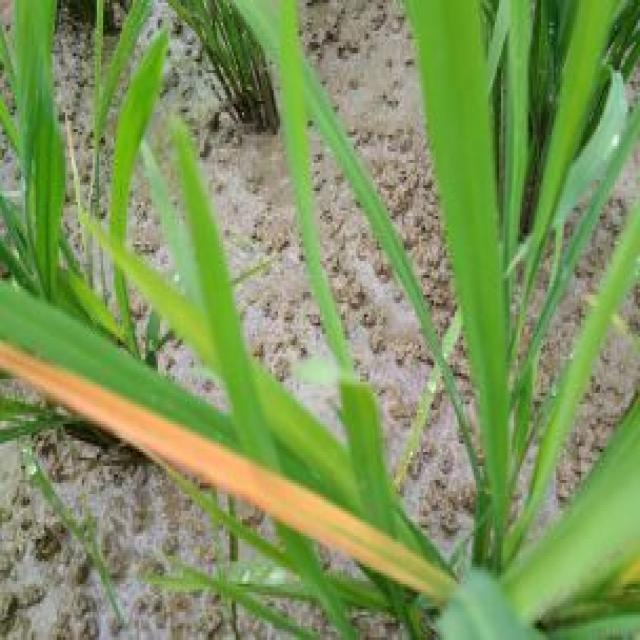Tungro: (2, 331, 418, 608)
